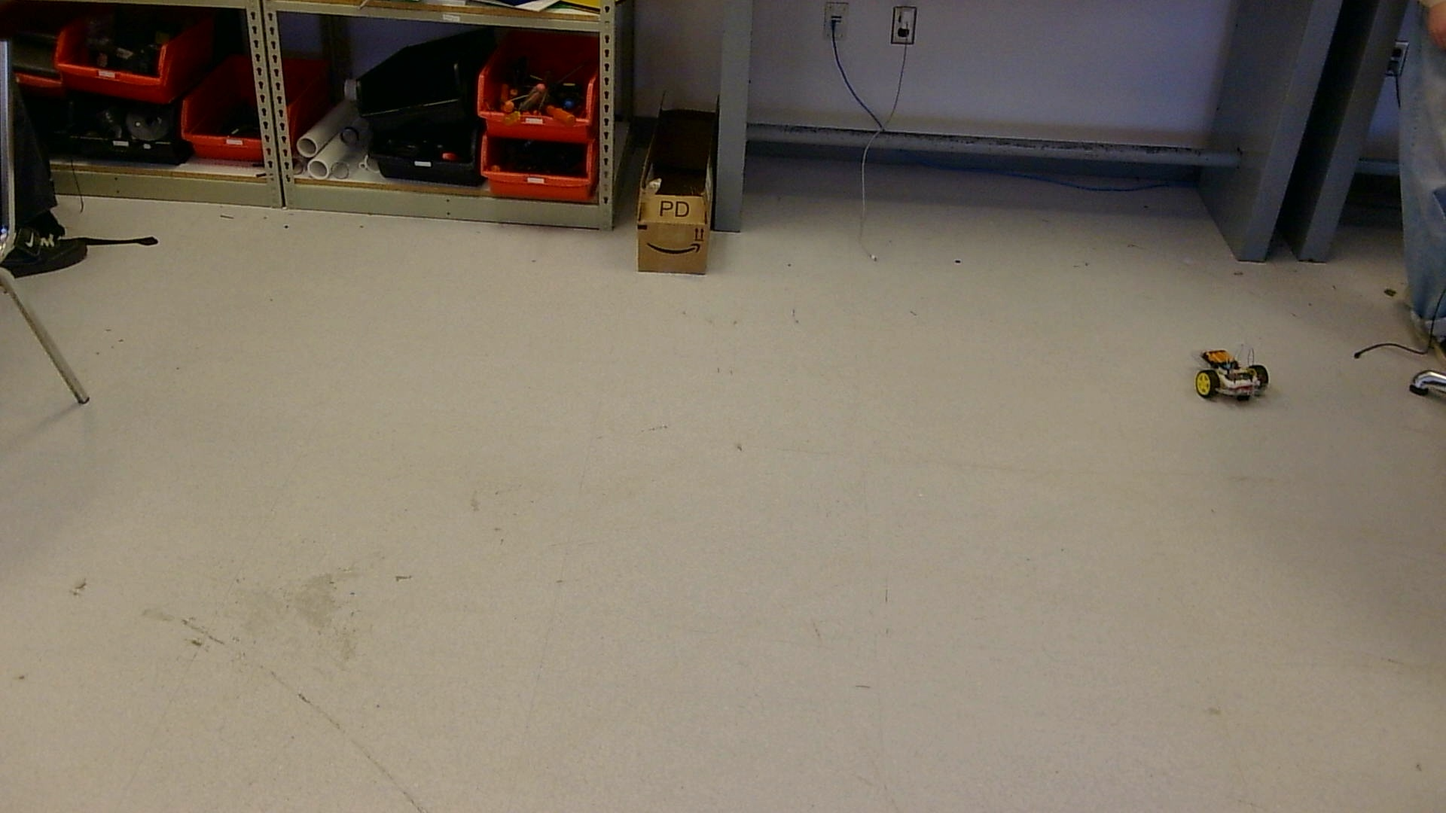robot: (1195, 349, 1269, 400)
